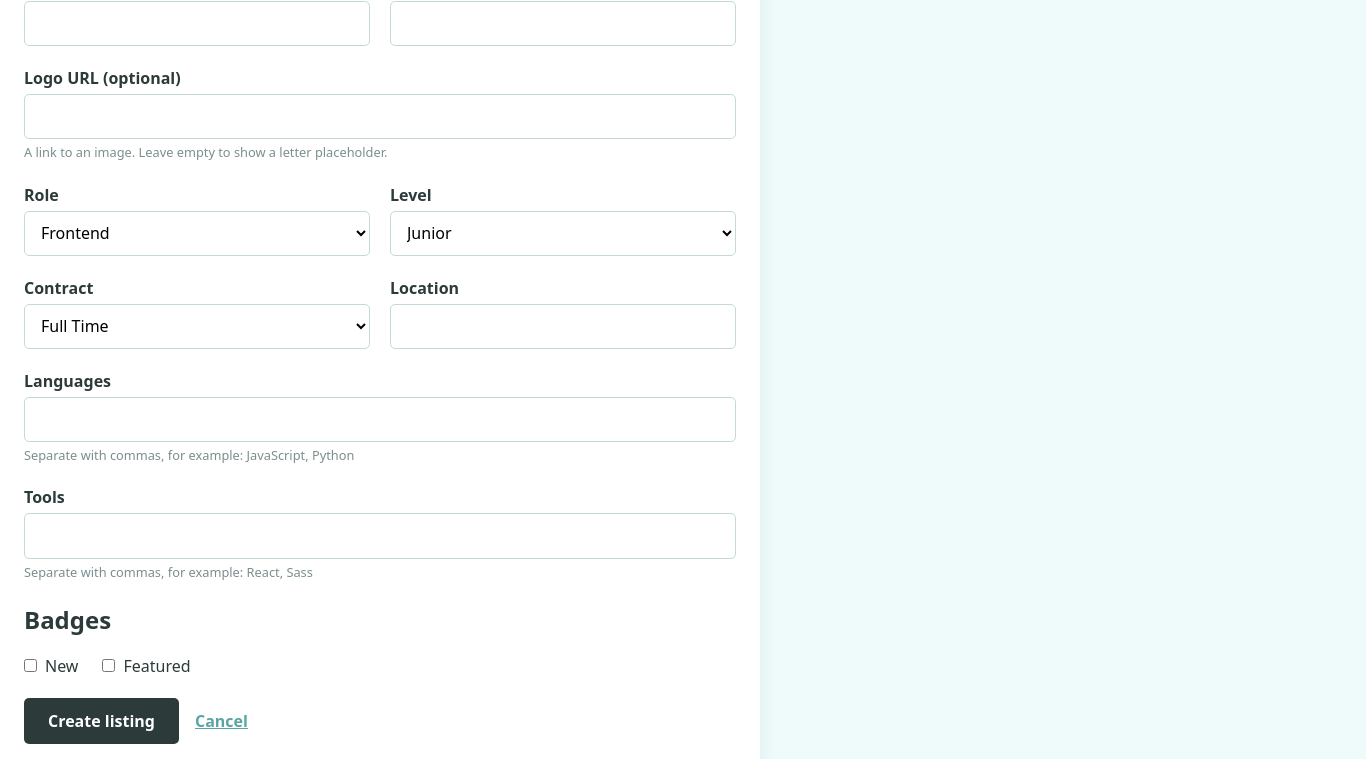
JobForm › shows validation errors and does not submit an empty form
(page scrolled)
Click the button "Create listing": (102, 721) 24,698 -> 179,744
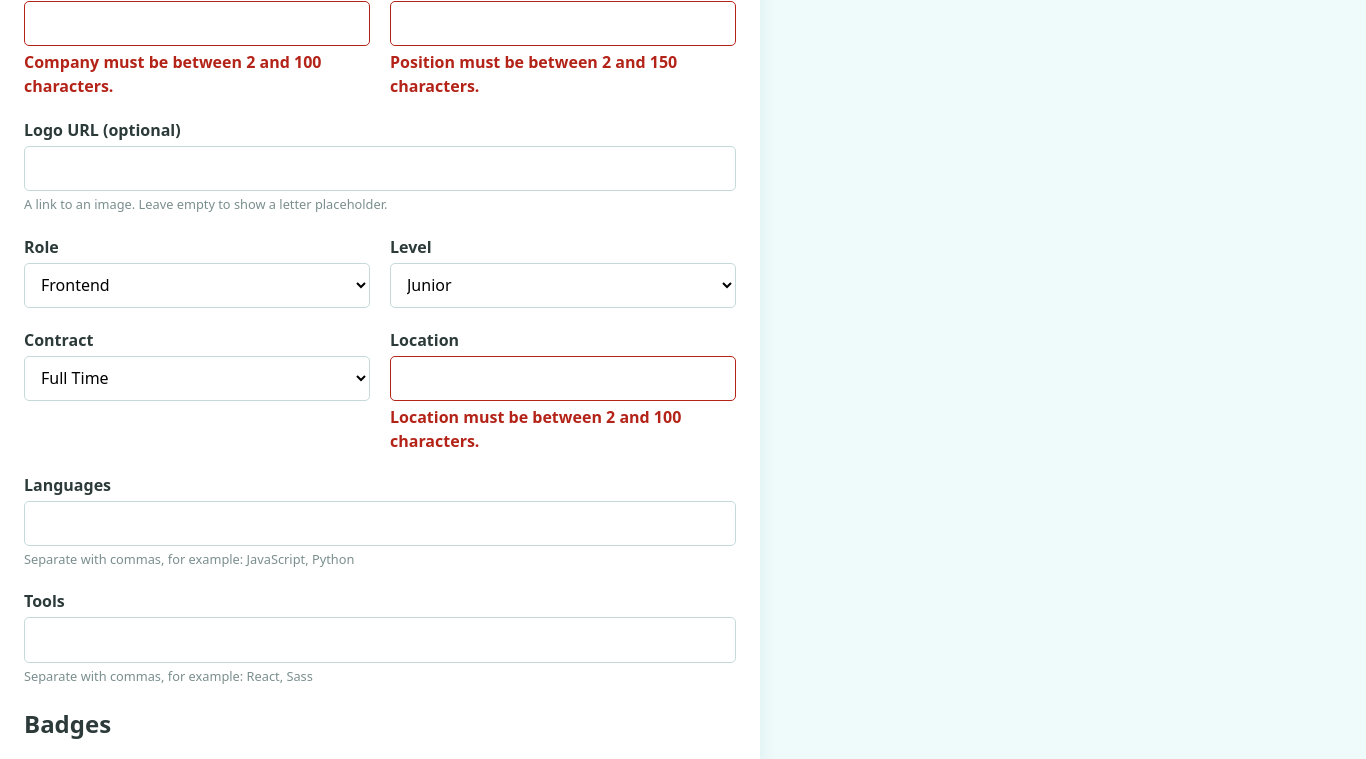
Now the text "Company must be between 2 and 100 characters." is shown, box 24,50 -> 370,98
Now the text "Position must be between 2 and 150 characters." is shown, box 390,51 -> 677,97
Now the text "Location must be between 2 and 100 characters." is shown, box 390,406 -> 681,452
